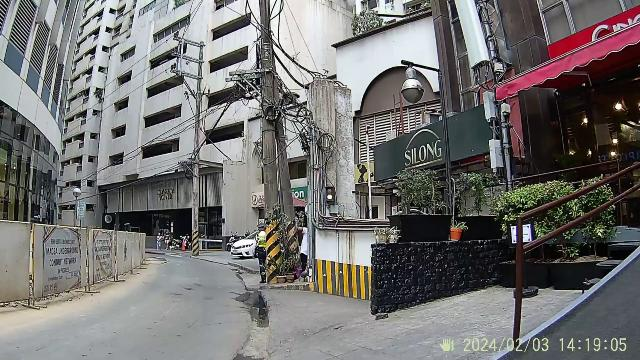construction_materials: (2, 218, 150, 290)
utility_post: (228, 0, 312, 298), (150, 22, 213, 256)
